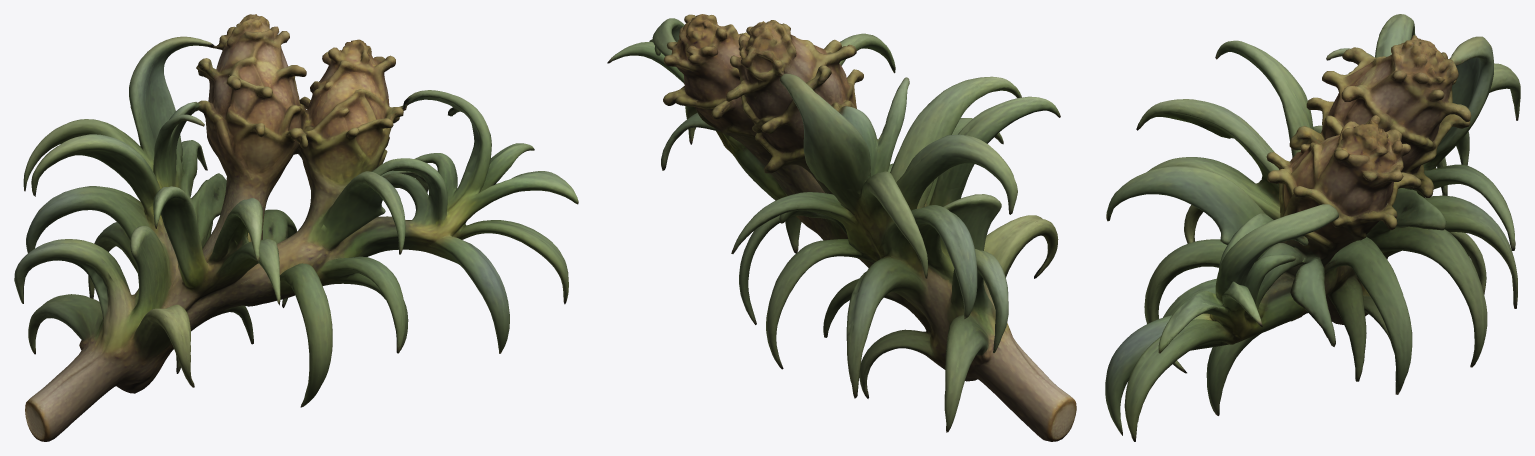
3 renders of one model, left to right at view 1: azimuth 30°, elevation 25°; view 2: azimuth 150°, elevation 25°; view 3: azimuth 270°, elevation 25°, orthographic. The views are drawn at different scales.
Parts seen in each view (by area): view 1: world; view 2: world; view 3: world.
Boxes of the visible parts, x1,y1,x2,y2 form: world: [14, 14, 578, 441]; world: [607, 14, 1076, 441]; world: [1105, 14, 1520, 441].
Size of the model in its own units: 0.3084 by 0.22 by 0.2027.
Materials: 1 (1 with a texture image).
